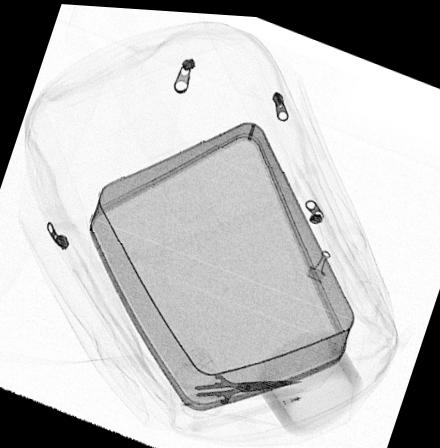Scissors: (174, 361, 305, 420)
